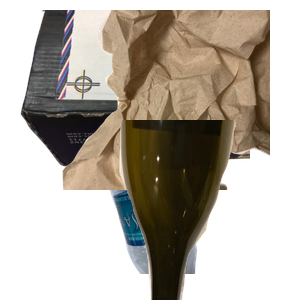cardboard: (18, 10, 258, 171)
glass: (117, 120, 300, 300)
plastic: (99, 120, 289, 300)
trash: (60, 10, 300, 190)
